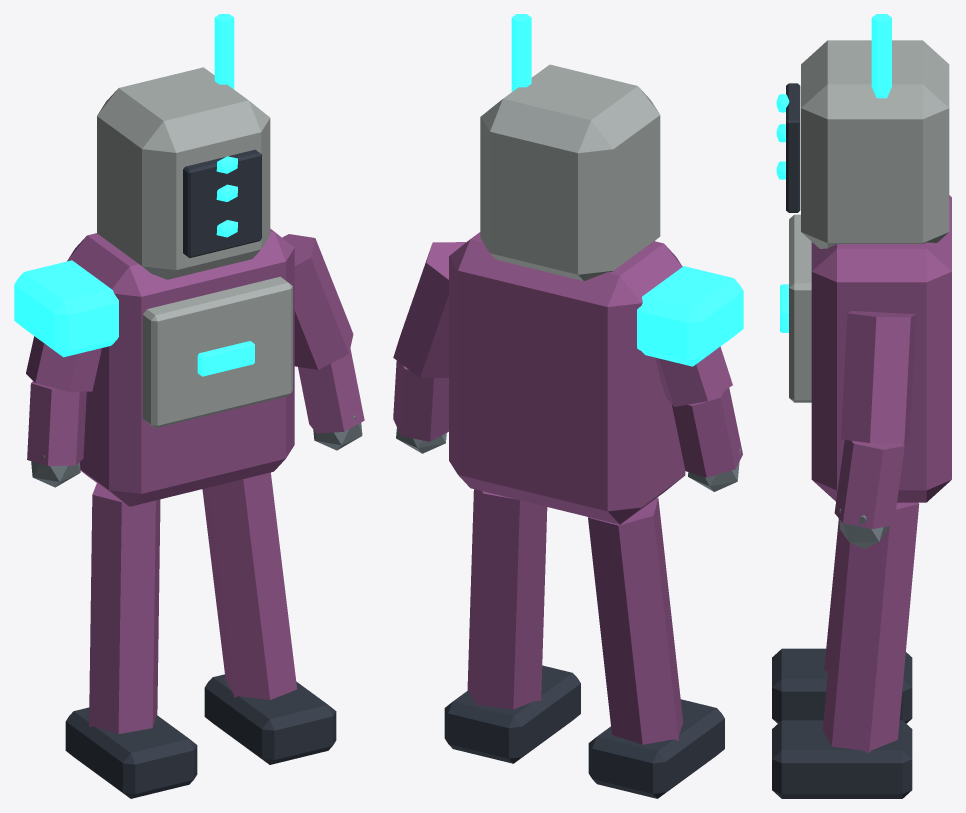
Rendered from npcs_036_seed11.glb.
3 renders of one model, left to right at view 1: azimuth 30°, elevation 25°; view 2: azimuth 150°, elevation 25°; view 3: azimuth 270°, elevation 25°, orthographic. The views are drawn at different scales.
Visible parts, largest first — view 1: npcs_036_seed11; view 2: npcs_036_seed11; view 3: npcs_036_seed11.
Boxes of the visible parts, x1,y1,x2,y2 form: npcs_036_seed11: (14, 14, 364, 798); npcs_036_seed11: (393, 14, 743, 798); npcs_036_seed11: (772, 14, 951, 798).
Size of the model in its own units: 0.9141 by 1.88 by 0.4079.
